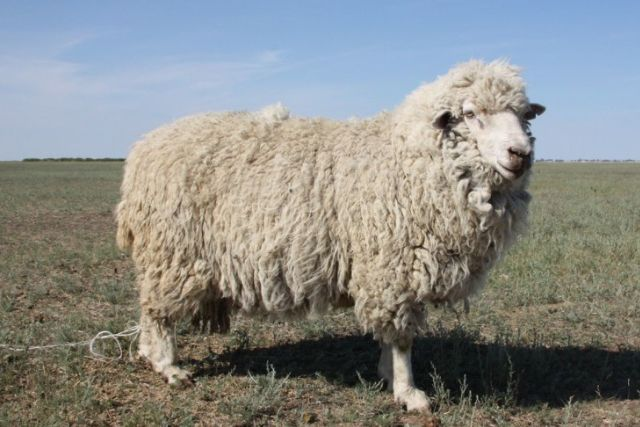sheep: (106, 79, 567, 386)
